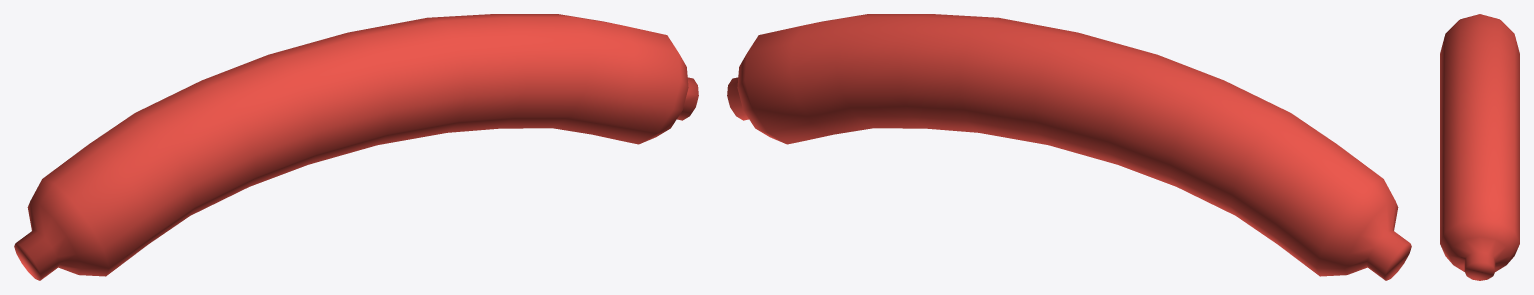
The model's file is sausage.fbx.
3 renders of one model, left to right at view 1: azimuth 30°, elevation 25°; view 2: azimuth 150°, elevation 25°; view 3: azimuth 270°, elevation 25°, orthographic. The views are drawn at different scales.
Parts seen in each view (by area): view 1: sausage; view 2: sausage; view 3: sausage.
Boxes of the visible parts, x1,y1,x2,y2 form: sausage: [14, 14, 698, 280]; sausage: [727, 14, 1411, 280]; sausage: [1440, 14, 1519, 280].
Size of the model in its own units: 138 by 33.29 by 20.79.
